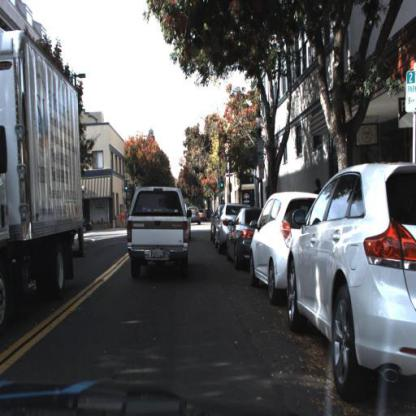car: (281, 163, 416, 403), (1, 20, 91, 336), (248, 190, 323, 304), (124, 181, 199, 282), (227, 205, 268, 269), (211, 198, 249, 257), (226, 208, 256, 269), (215, 202, 236, 253), (190, 206, 202, 229)
pedestrian: (309, 176, 326, 196), (315, 177, 323, 196)
trafficLight-Green: (220, 175, 228, 192)
truck: (1, 30, 85, 334)
